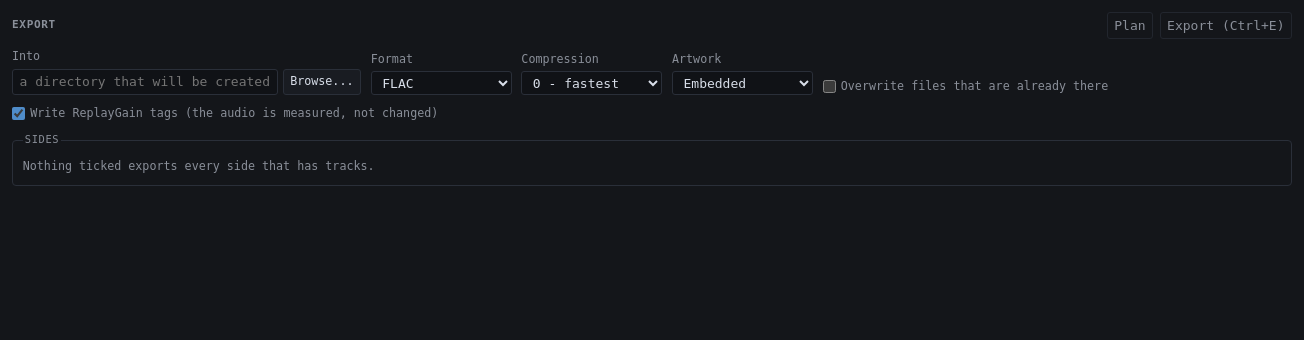
Scenario: the format and its quality › warns before a mono export, because afterwards the file just is mono
This screenshot has width=1304, height=340.
Step 1. Click the button "Browse..." → (322, 82), box [283, 69, 361, 95]
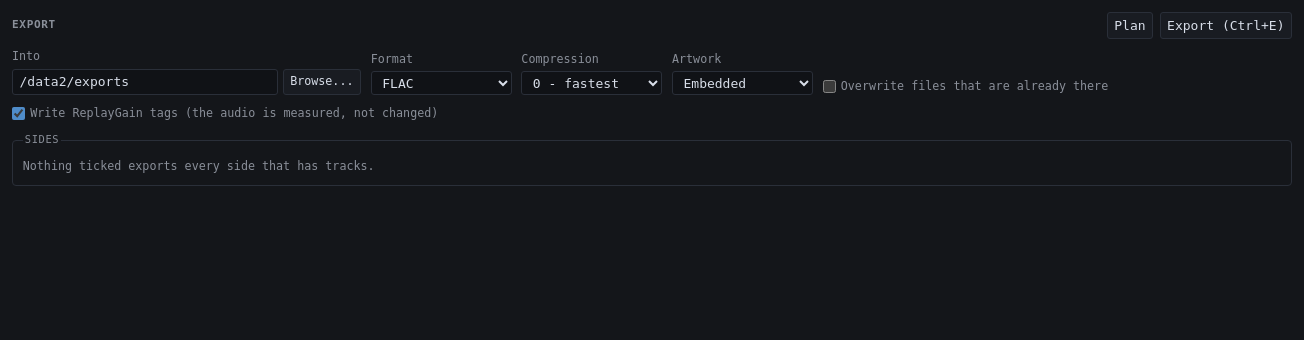
Step 2. Click the button "Plan" → (1130, 25), box [1107, 12, 1153, 39]
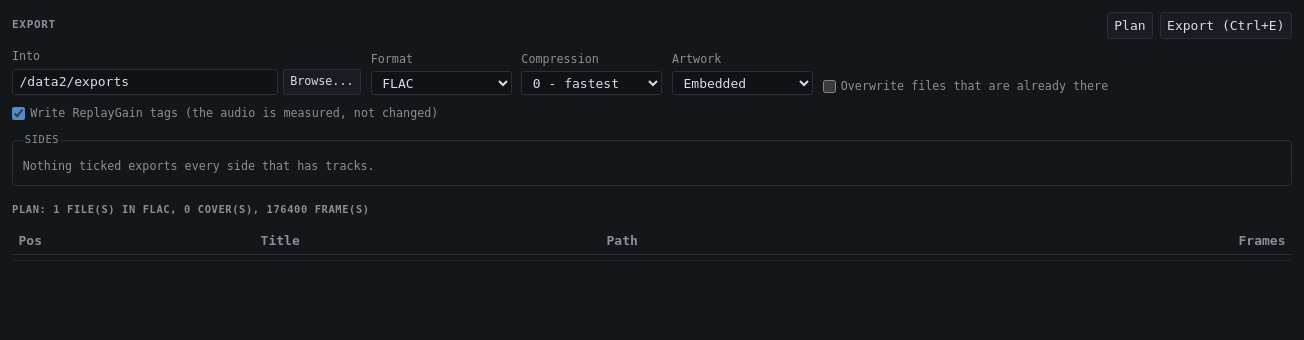
Check: the text "marked mono" is not shown
Step 3. Select "WAV" in the dropdown labelled "Format" → (441, 83), box [371, 71, 512, 95]
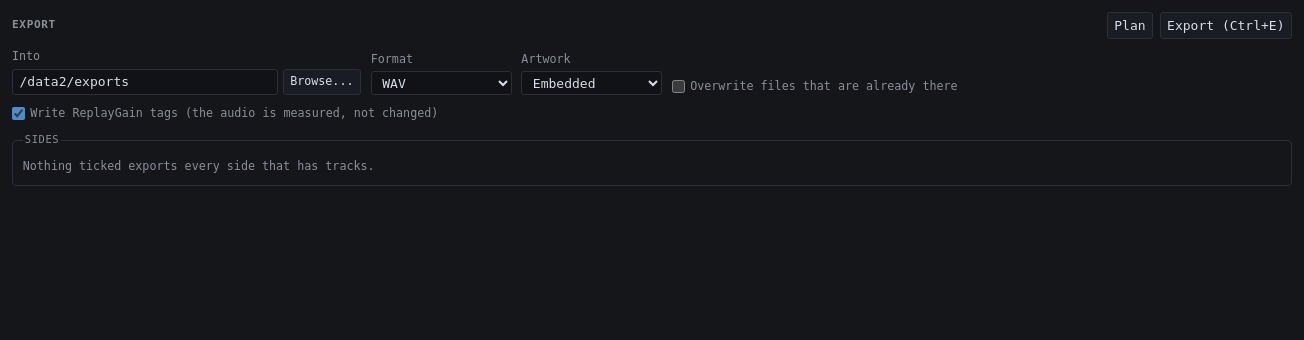
Step 4. Click the button "Plan" → (1130, 25), box [1107, 12, 1153, 39]
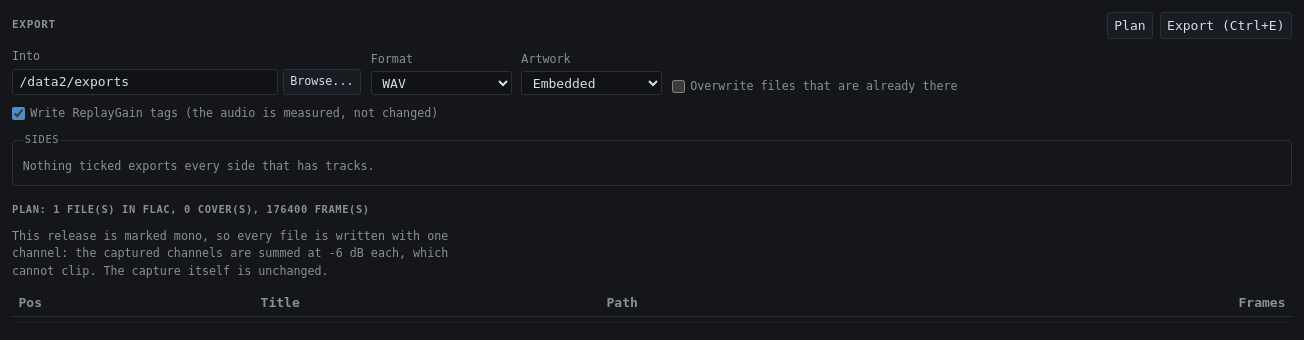
Check: the text "marked mono" is shown, box [12, 229, 448, 278]
Check: the text "-6 dB" is shown, box [12, 229, 448, 278]
